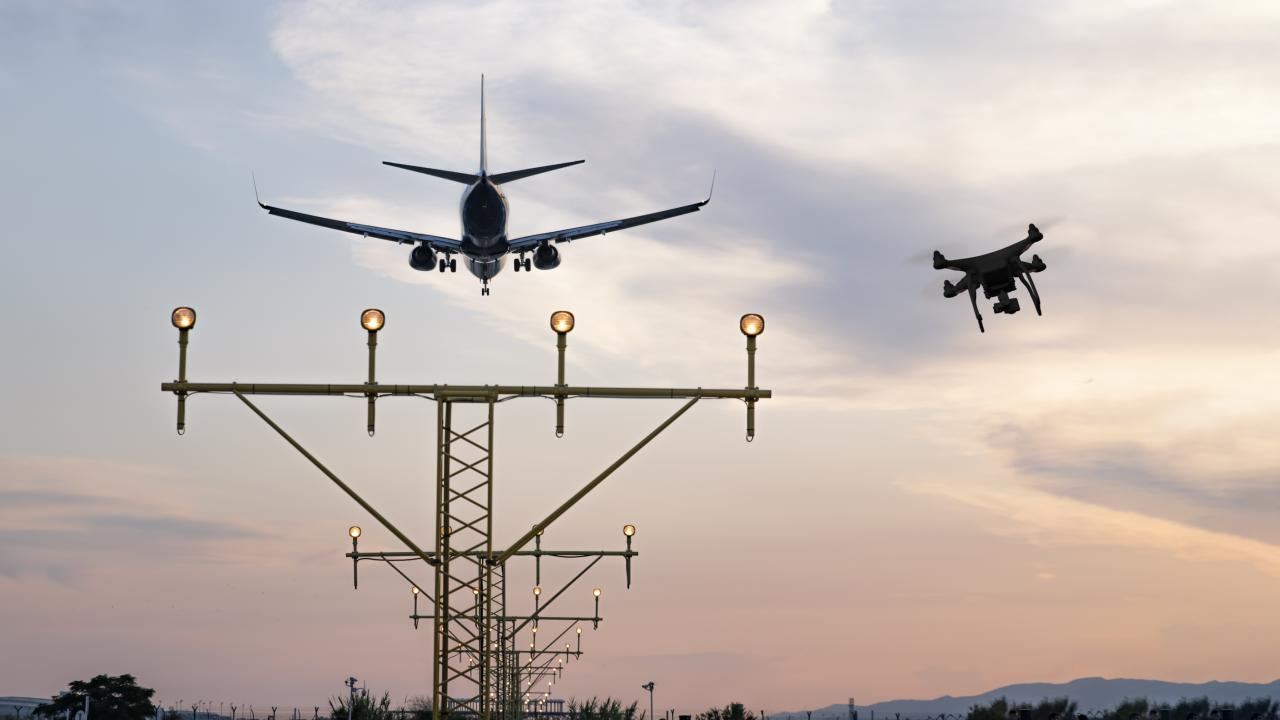Airplane: (232, 61, 736, 302)
Drone: (914, 211, 1076, 341)
